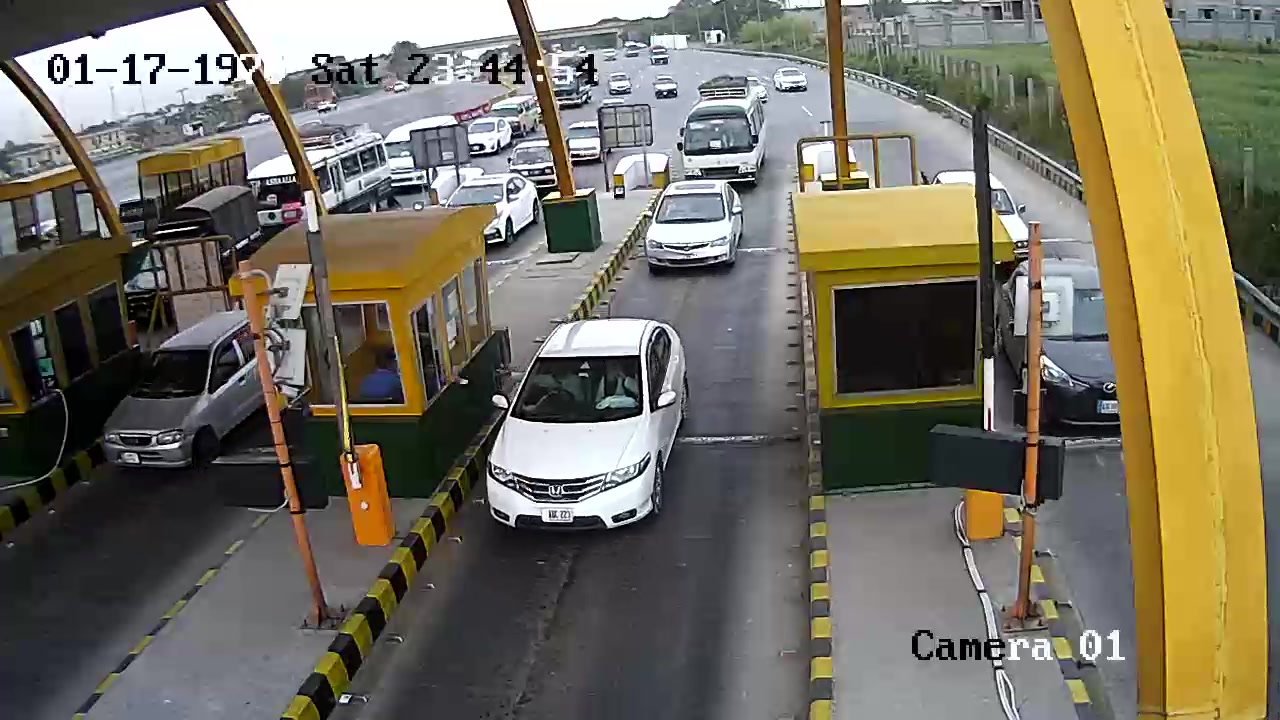F1: (488, 299, 692, 546)
